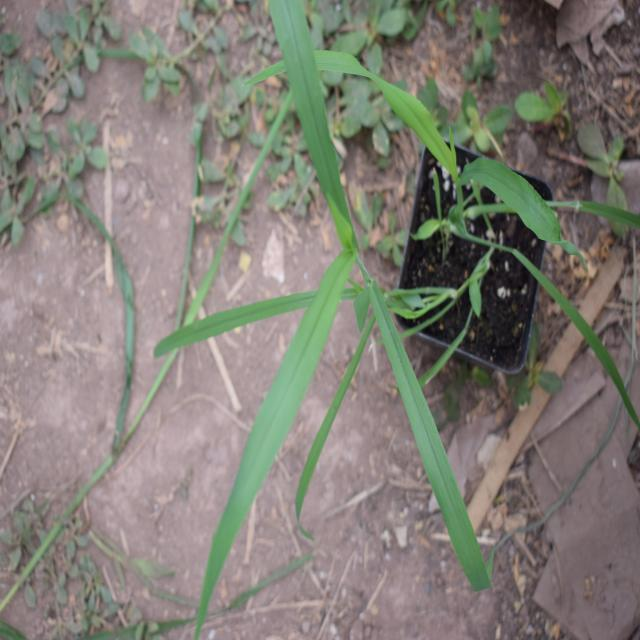crabgrass: (209, 0, 477, 593)
